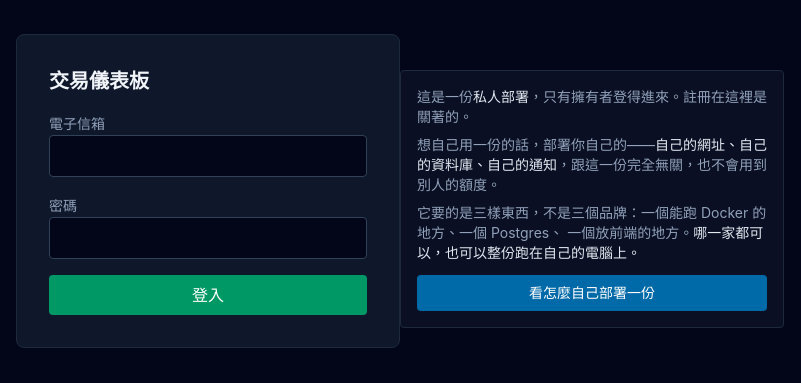
LoginPage › shows an error message on invalid credentials
Type "me@example.com" into the field labelled "電子信箱" at {"x": 208, "y": 156}, box [49,135,367,177]
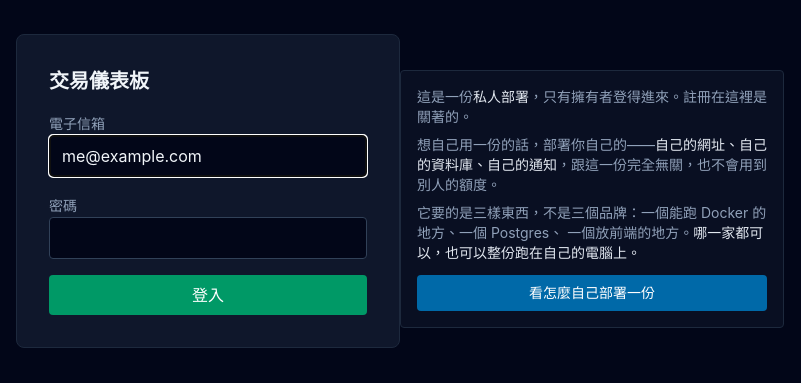
Type "wrong" into the password field labelled "密碼" at {"x": 208, "y": 238}, box [49,217,367,259]
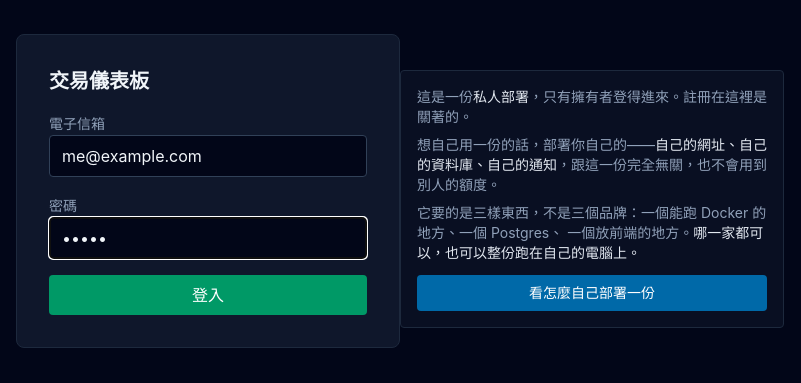
Click the button "登入" at {"x": 208, "y": 295}, box [49,275,367,315]
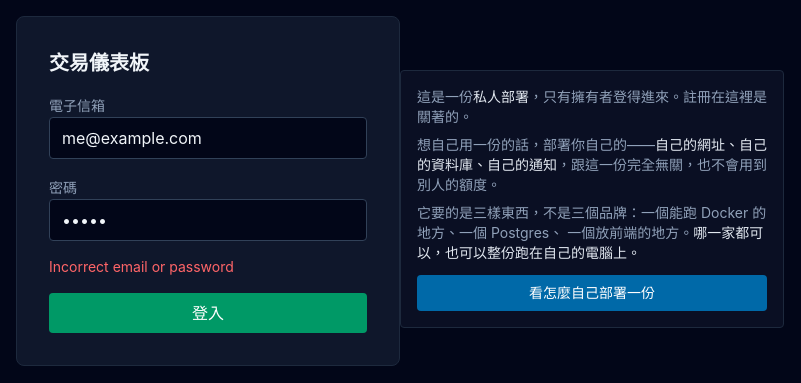
Result: the text "Incorrect email or password" is shown at [49,258,234,275]
